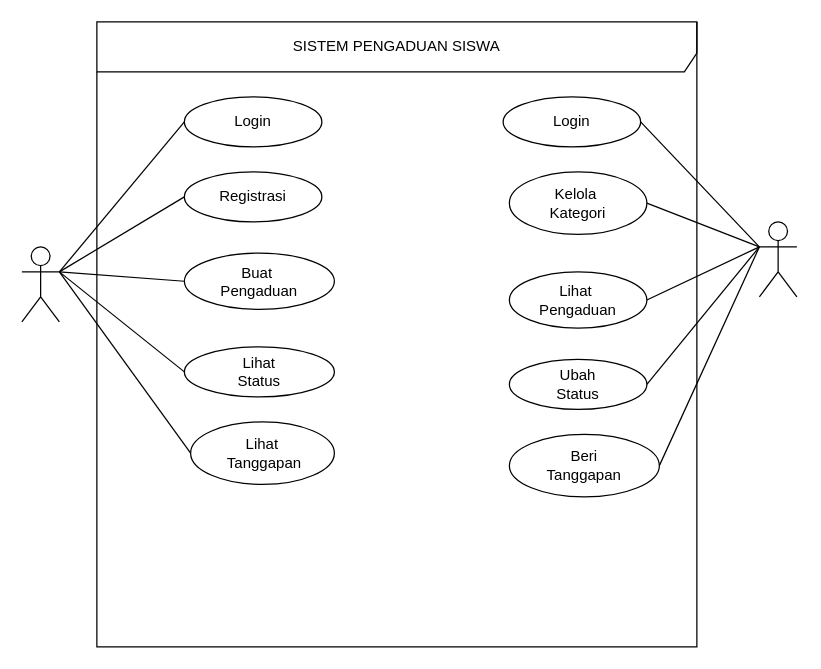
The diagram is 821 pixels wide and 669 high, and some of its shapes have lost their labels. The shapes that lost their labels are listed below. From the top down, each one's centre as x and y in pixels, then its label:
the point at 777,259: Admin
the point at 40,284: siswa
